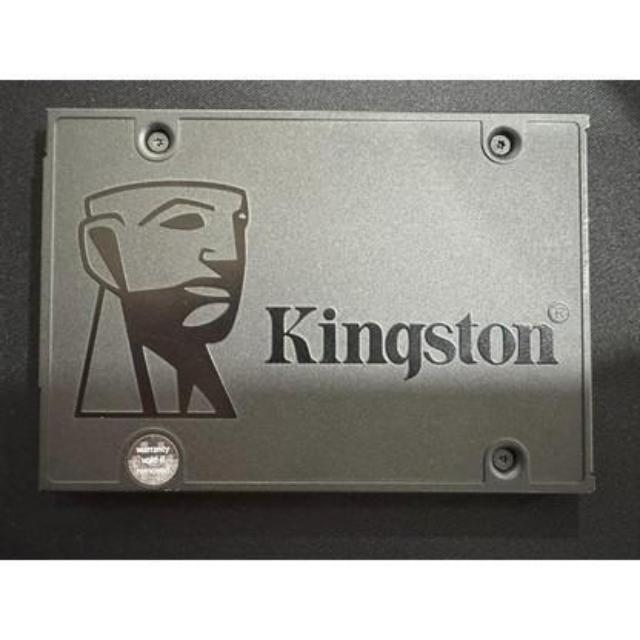DISK: (32, 97, 603, 506)
